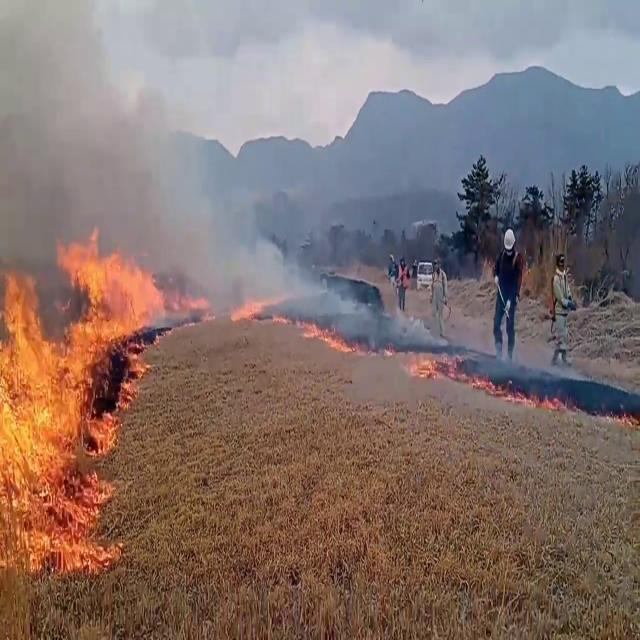Fire: (0, 226, 172, 575), (300, 316, 364, 354)
Smoke: (0, 0, 278, 327)
